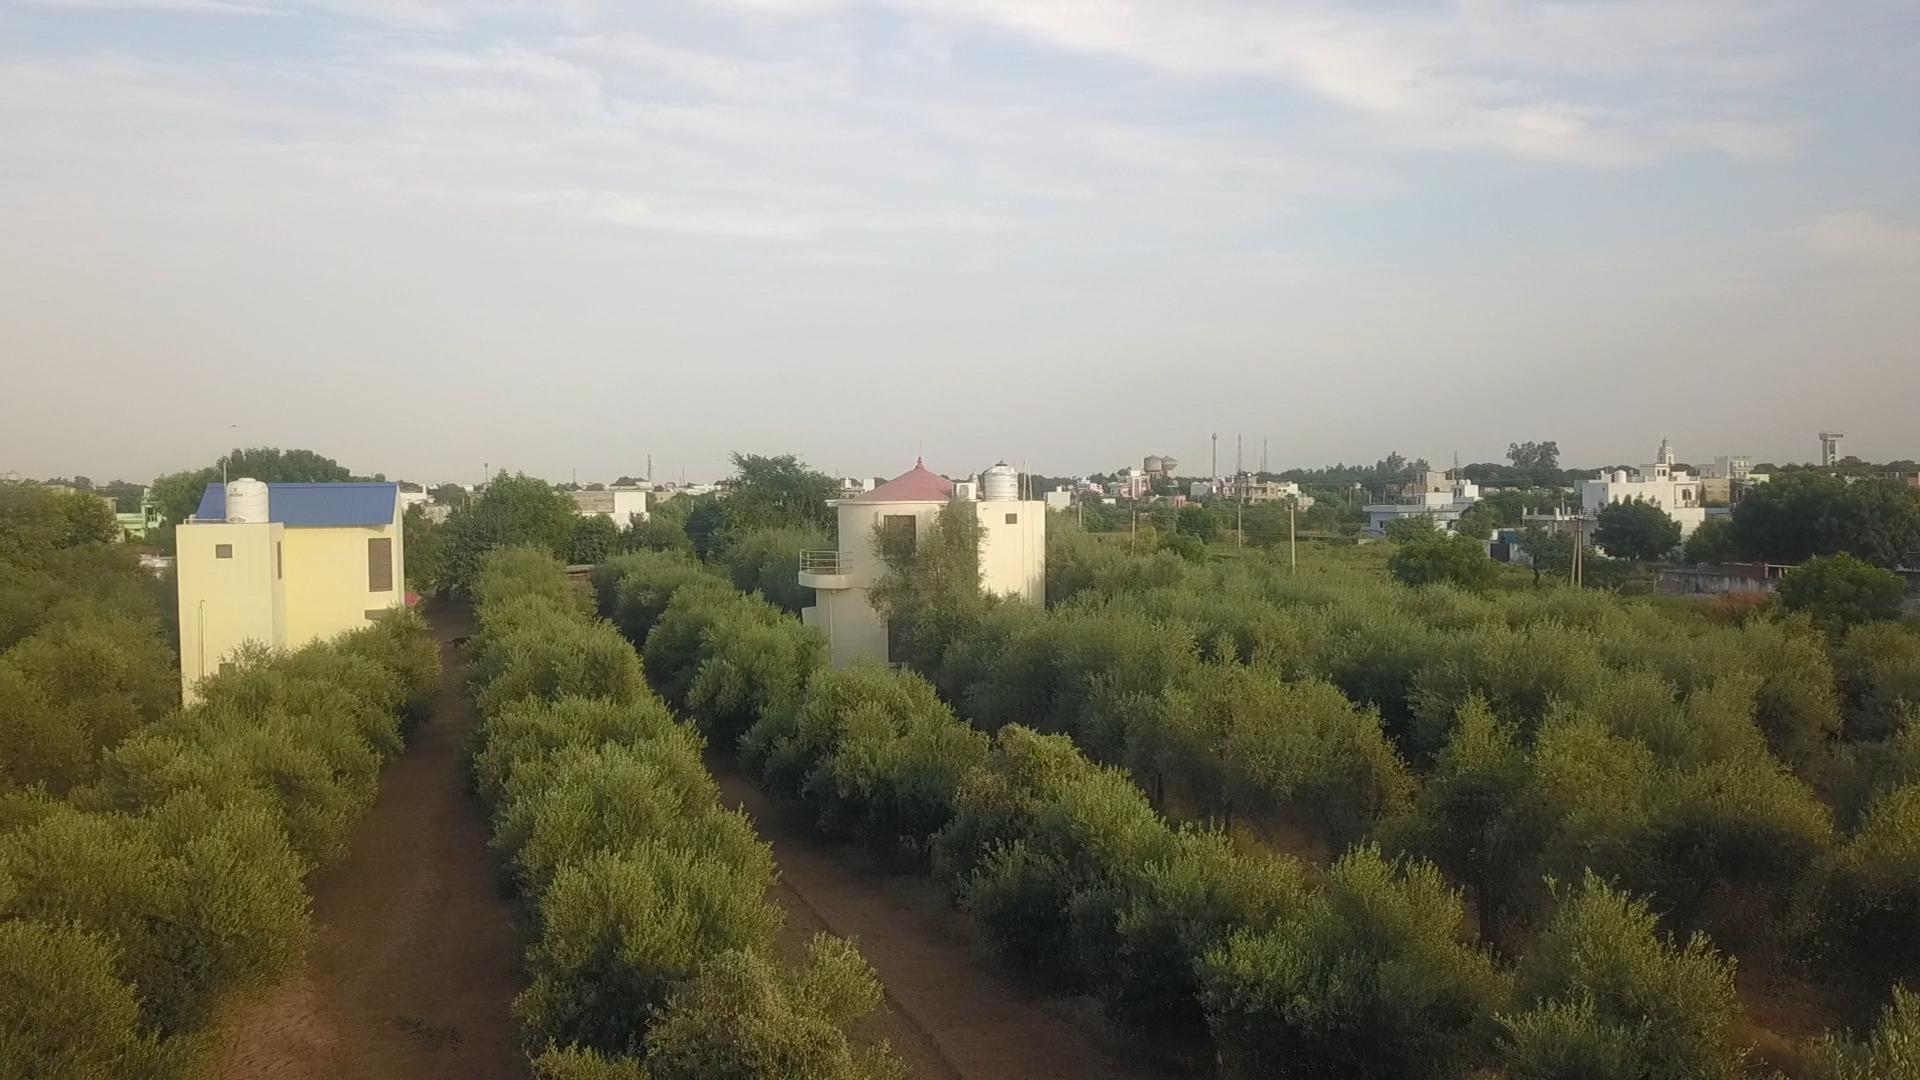canopy: (595, 551, 1741, 1079), (893, 589, 1919, 977), (467, 549, 870, 1079), (0, 621, 433, 1079)
road: (708, 758, 1166, 1079), (223, 605, 530, 1079)
